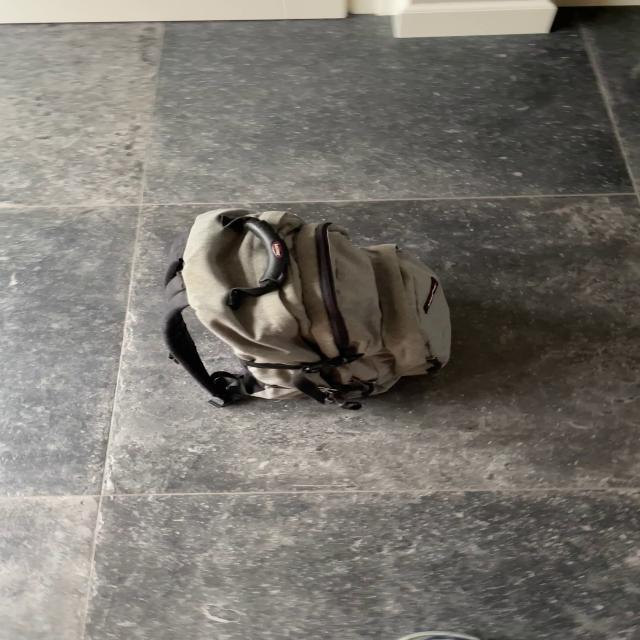backpack: (154, 202, 466, 414)
